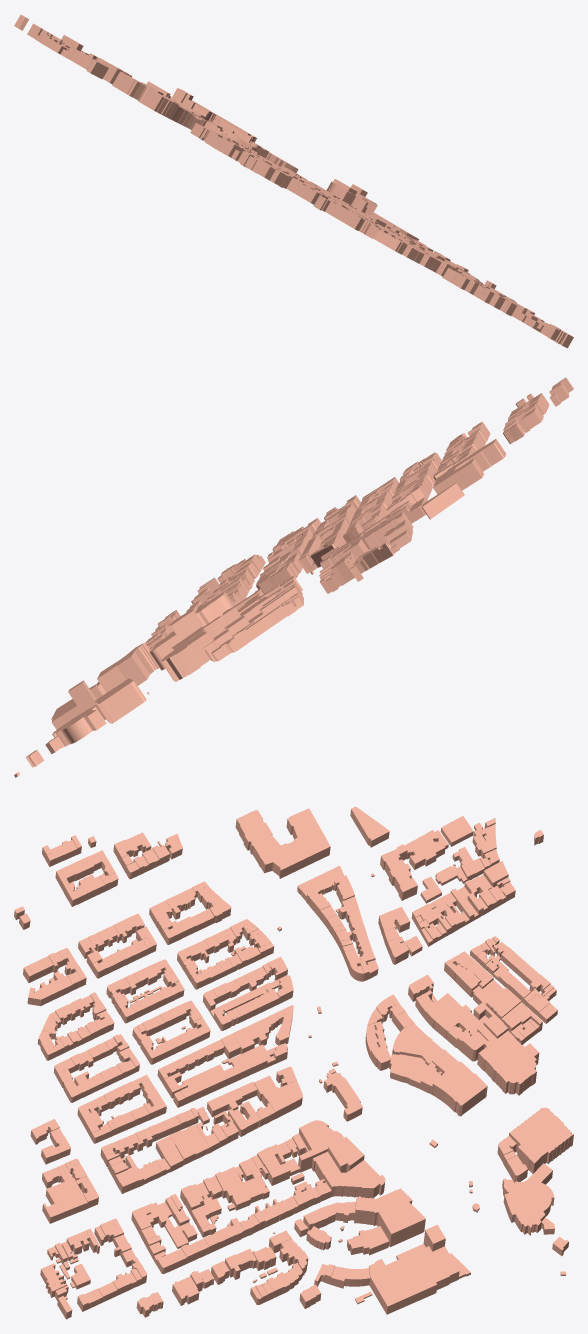
3 renders of one model, top to bottom at view 1: azimuth 30°, elevation 25°; view 2: azimuth 150°, elevation 25°; view 3: azimuth 270°, elevation 25°, orthographic. The views are drawn at different scales.
Size of the model in its own units: 542 by 410 by 638.
